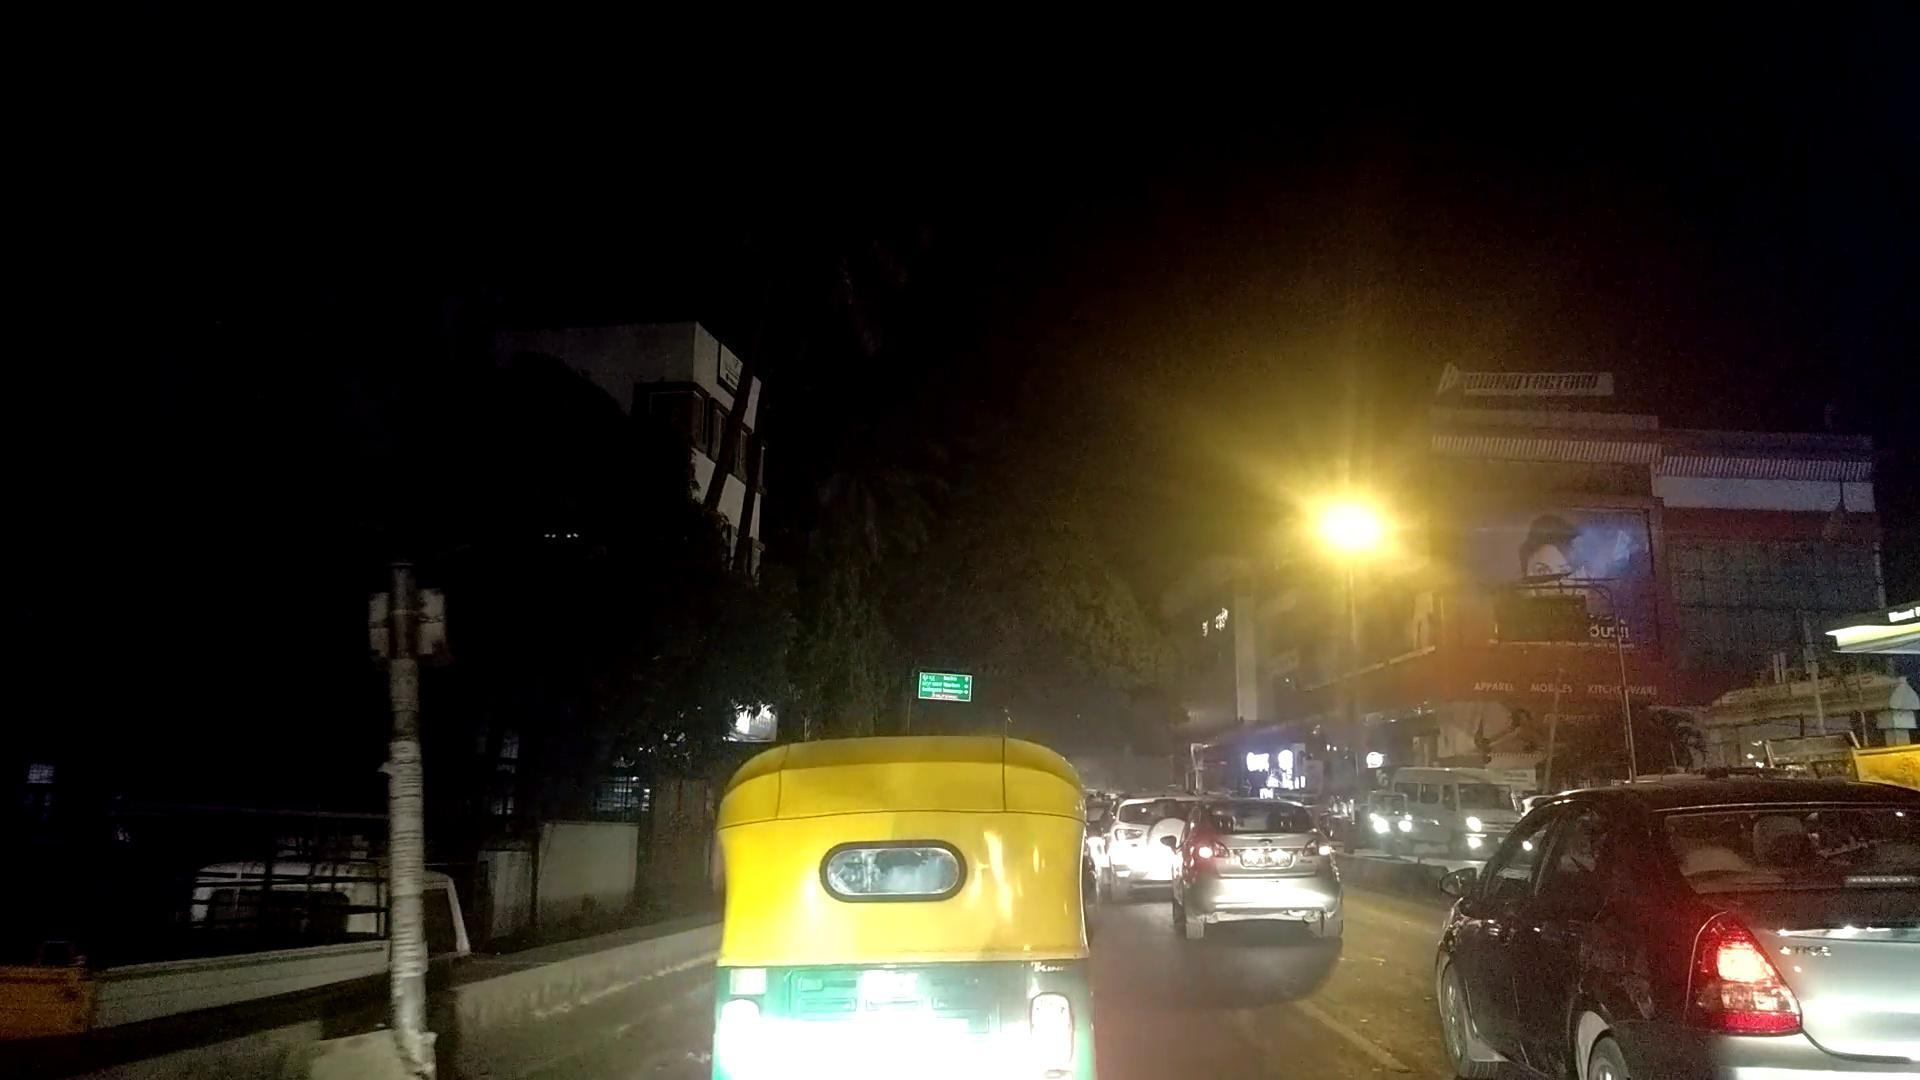on: (1240, 363, 1575, 835)
